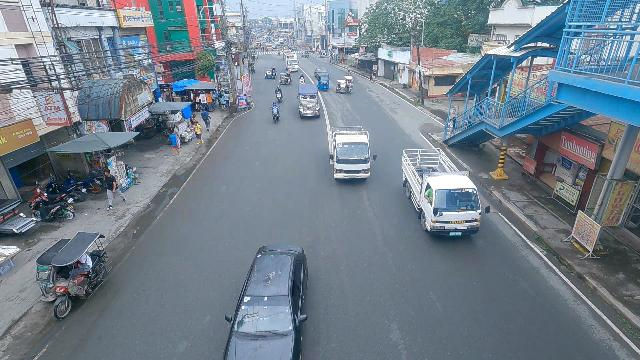car: (217, 244, 310, 360)
jeepney: (297, 83, 321, 119)
motorcycle: (335, 75, 354, 94), (316, 72, 330, 92), (270, 103, 282, 125), (274, 85, 285, 104), (299, 75, 305, 85), (250, 63, 255, 74), (277, 48, 281, 55)
truck: (399, 143, 486, 241), (327, 125, 373, 183), (283, 53, 299, 72)
